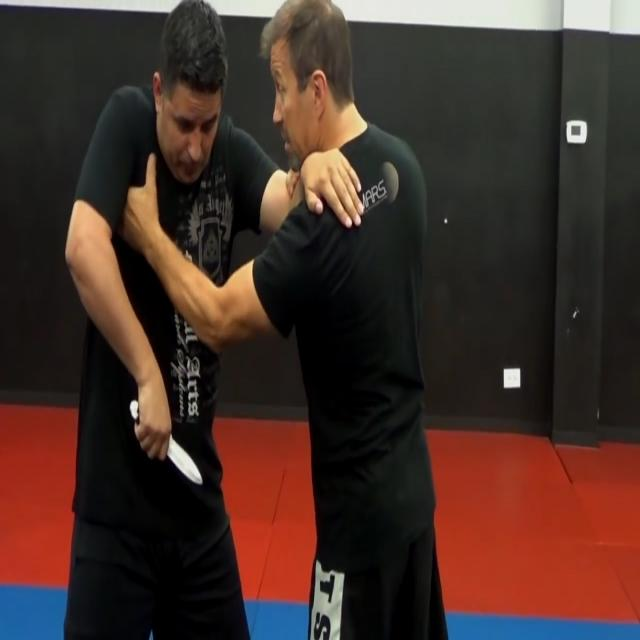knife: (171, 427, 206, 497)
